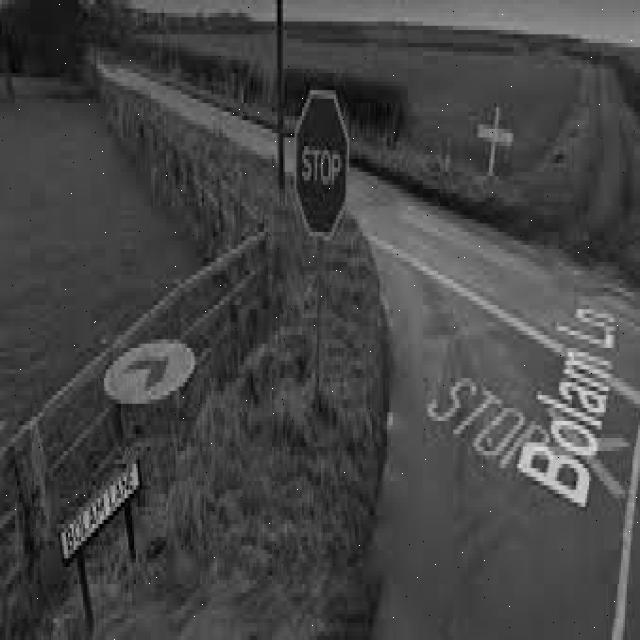stop sign: (296, 88, 346, 235)
